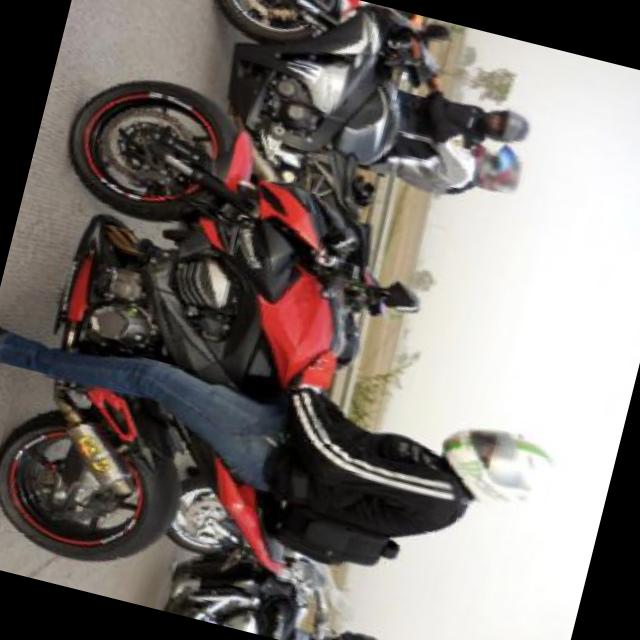With Helmet: (429, 418, 561, 522), (468, 144, 530, 197), (480, 106, 535, 145)
